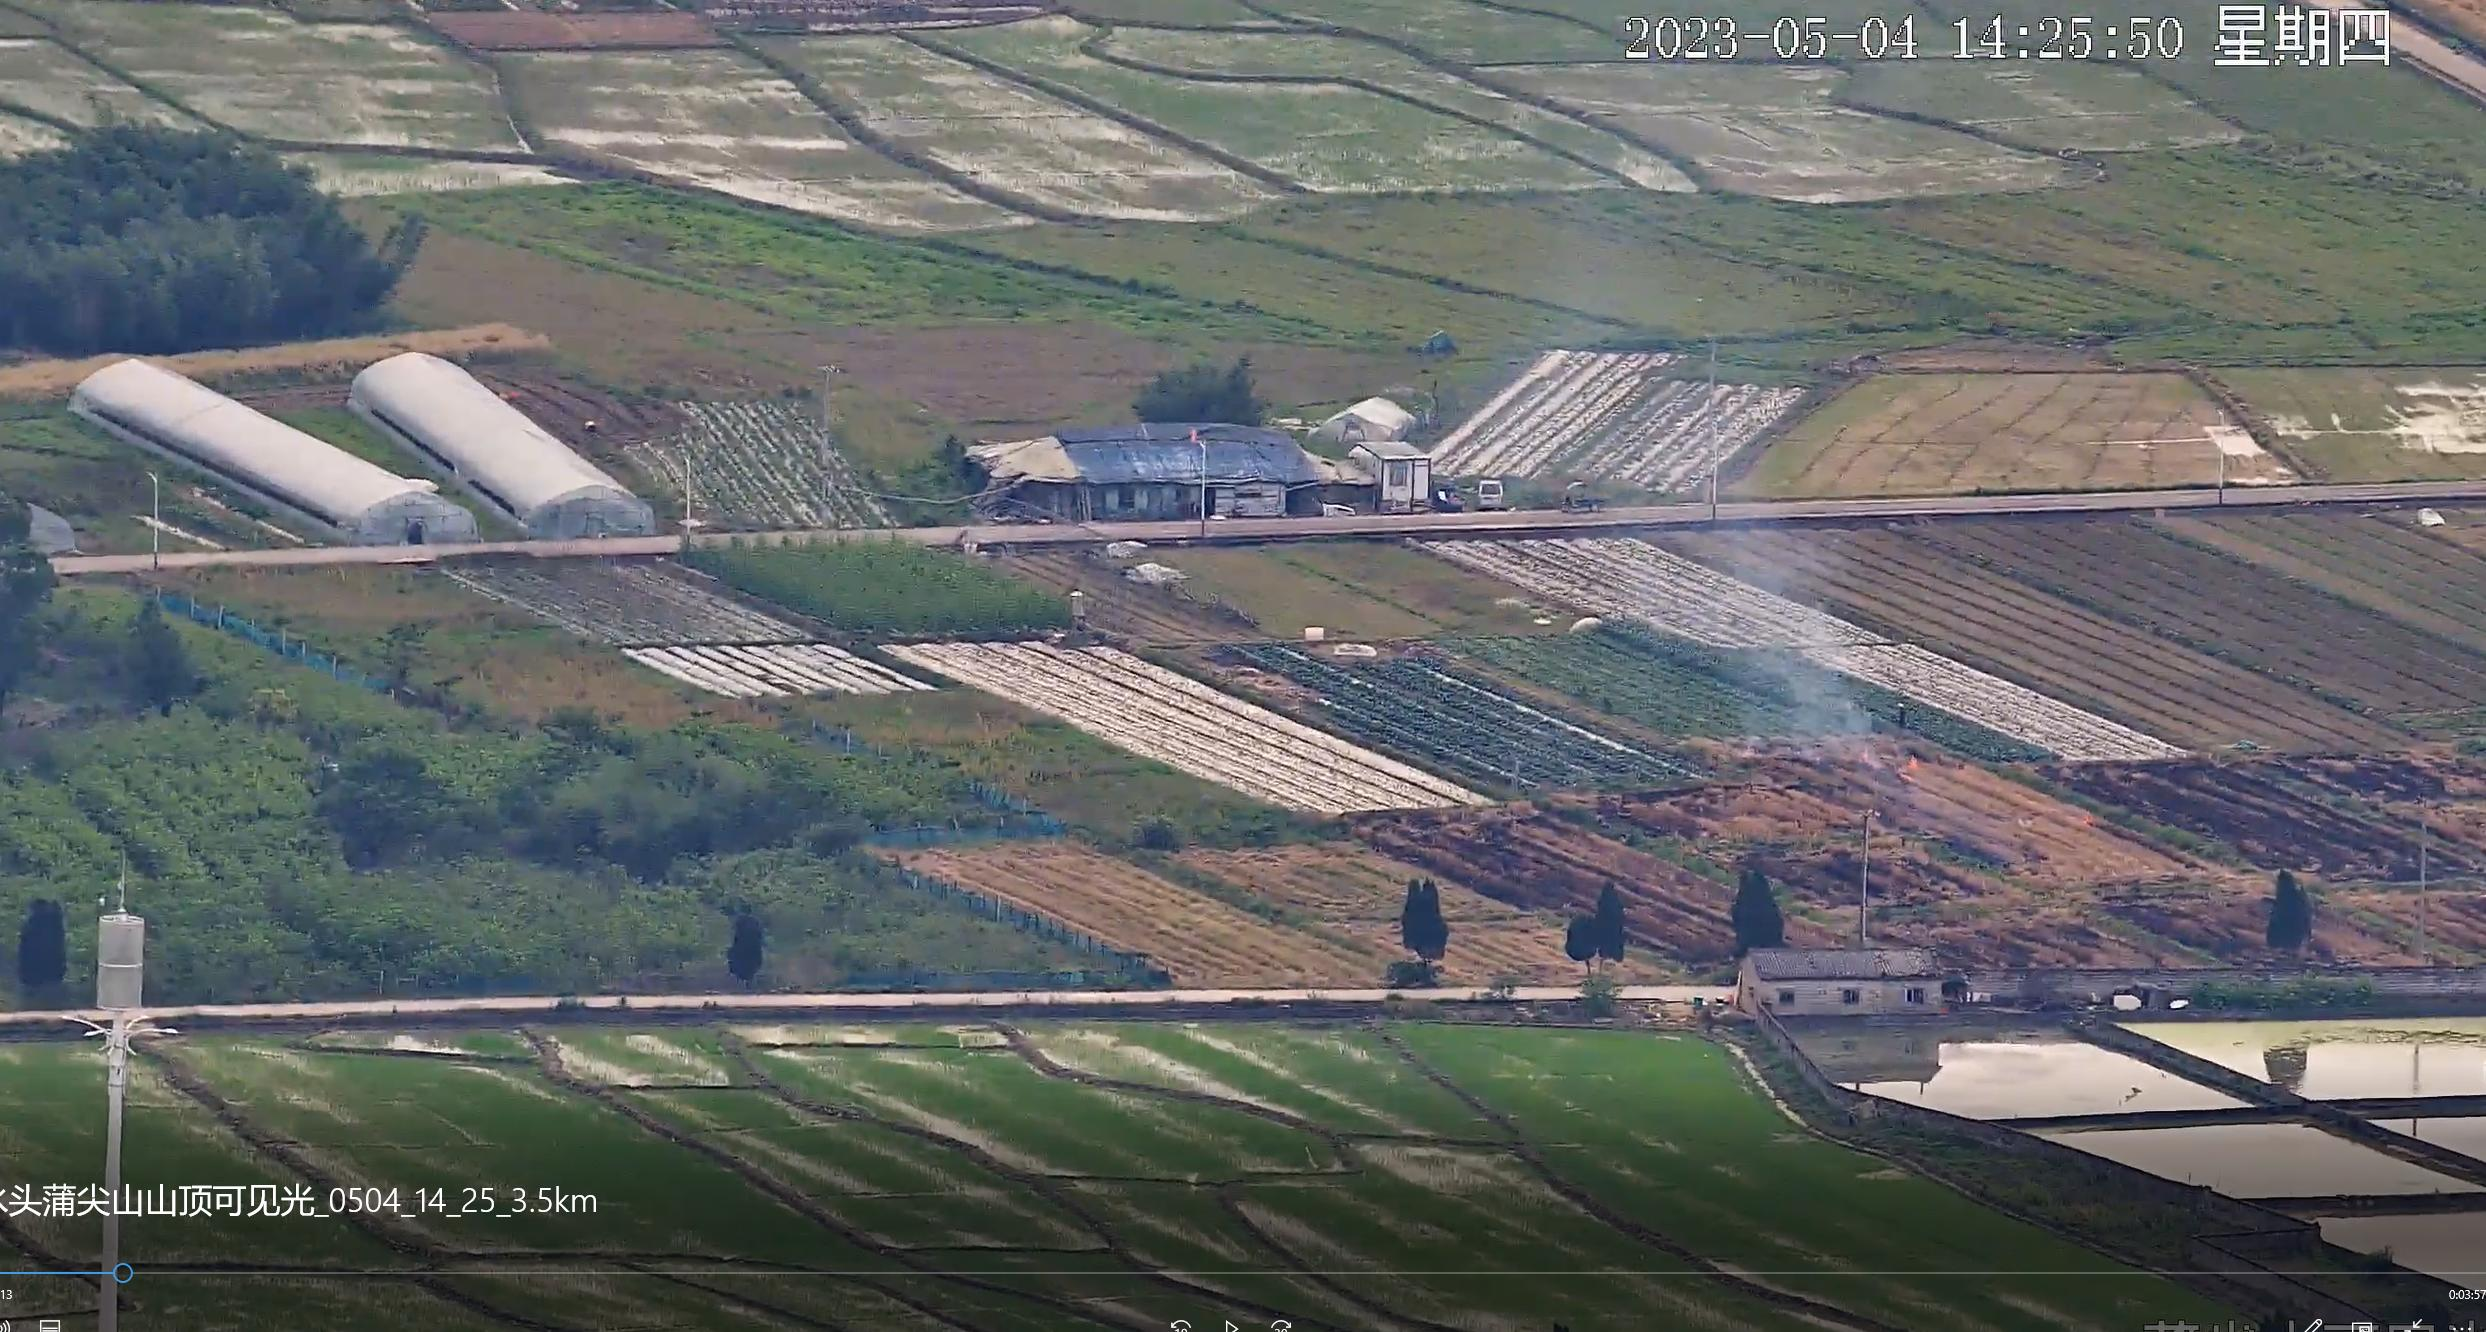Fire: (1904, 753, 1921, 772)
Smoke: (1721, 637, 1887, 768)
